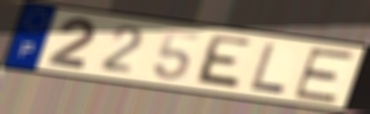2: (44, 16, 99, 73), (96, 25, 149, 76)
5: (152, 28, 203, 81)
E: (290, 47, 358, 105), (191, 32, 255, 92)
L: (248, 42, 289, 95)
